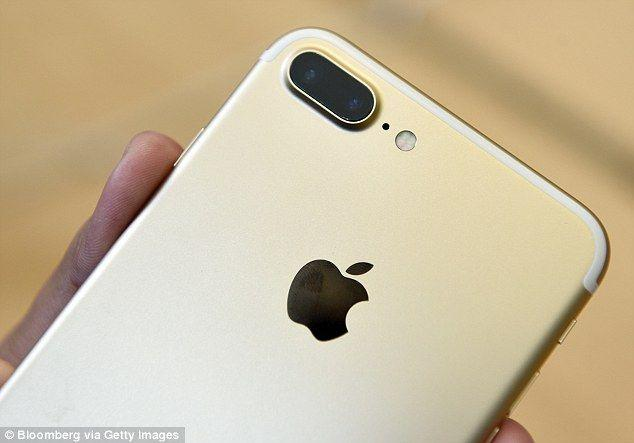Phone: (1, 22, 613, 443)
